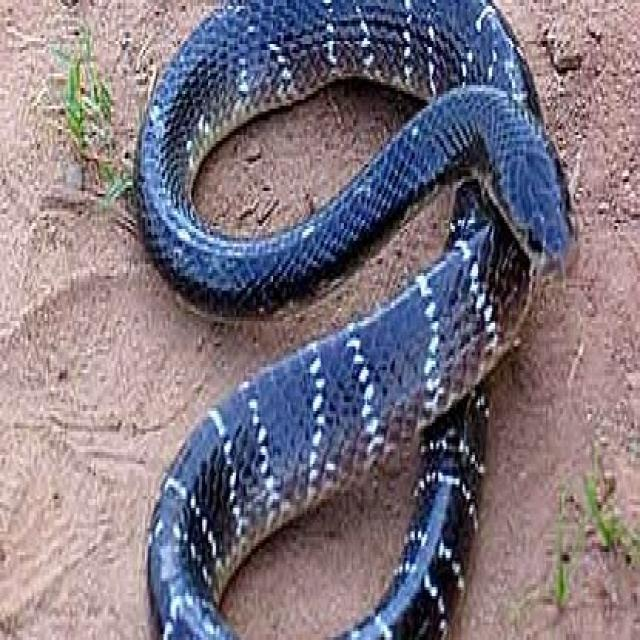Snake: (131, 0, 577, 637)
